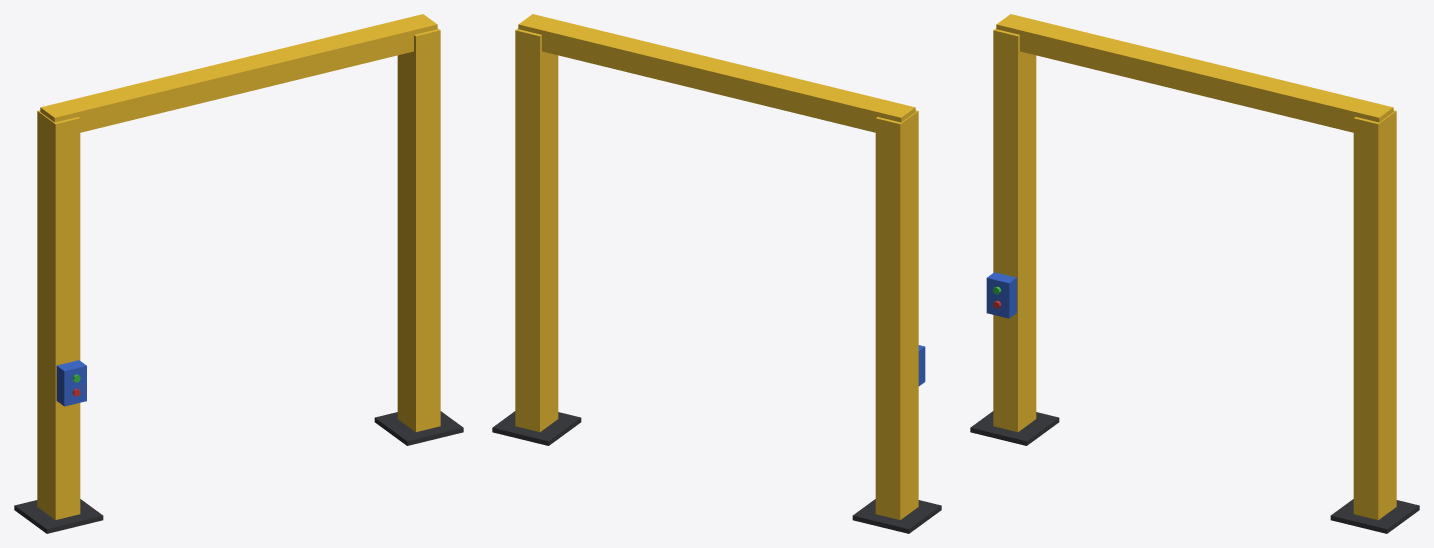
Rendered from garage_lift.glb.
3 renders of one model, left to right at view 1: azimuth 30°, elevation 25°; view 2: azimuth 150°, elevation 25°; view 3: azimuth 330°, elevation 25°, orthographic.
Visible parts, largest first — view 1: post_lift_yellow, beam_lift_yellow, plate_lift_dark, control_lift_box; view 2: post_lift_yellow, beam_lift_yellow, plate_lift_dark; view 3: post_lift_yellow, beam_lift_yellow, plate_lift_dark, control_lift_box.
Boxes of the visible parts, x1,y1,x2,y2 form: post_lift_yellow: [37, 28, 440, 519]; beam_lift_yellow: [40, 14, 437, 132]; plate_lift_dark: [14, 411, 463, 533]; control_lift_box: [56, 360, 86, 406]; post_lift_yellow: [515, 28, 918, 519]; beam_lift_yellow: [518, 14, 915, 132]; plate_lift_dark: [492, 411, 941, 533]; post_lift_yellow: [993, 28, 1396, 519]; beam_lift_yellow: [996, 14, 1393, 132]; plate_lift_dark: [970, 411, 1419, 533]; control_lift_box: [986, 272, 1016, 318].
Size of the model in its own units: 3.7 by 3.44 by 0.535.
